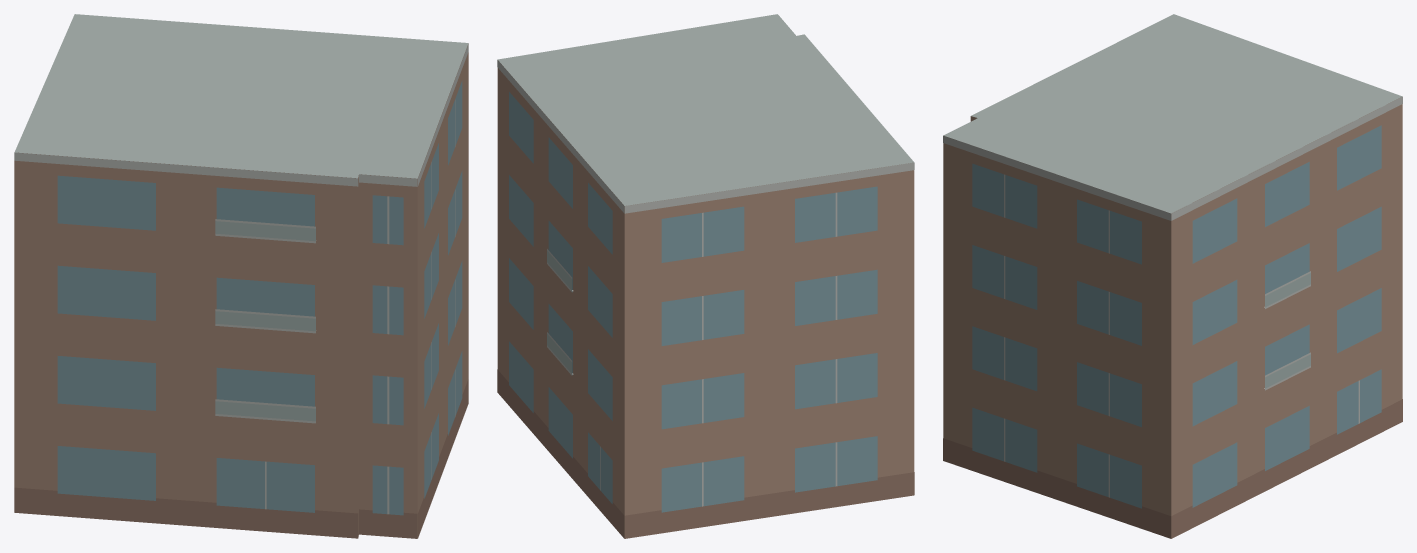
File: survey-upis-32679494.glb
3 views of the same model, side by side, from view 1: azimuth 30°, elevation 25°; view 2: azimuth 150°, elevation 25°; view 3: azimuth 270°, elevation 25° (orthographic). The views are drawn at different scales.
Parts seen in each view (by area): view 1: survey-upis-32679494.tmp; view 2: survey-upis-32679494.tmp; view 3: survey-upis-32679494.tmp.
Boxes of the visible parts, box(x1,y1,x2,y2) form: survey-upis-32679494.tmp: box(14, 14, 468, 538); survey-upis-32679494.tmp: box(497, 14, 914, 538); survey-upis-32679494.tmp: box(943, 14, 1402, 538).
Bounding box in the file's own units: 13.95 × 10.6 × 13.57.
